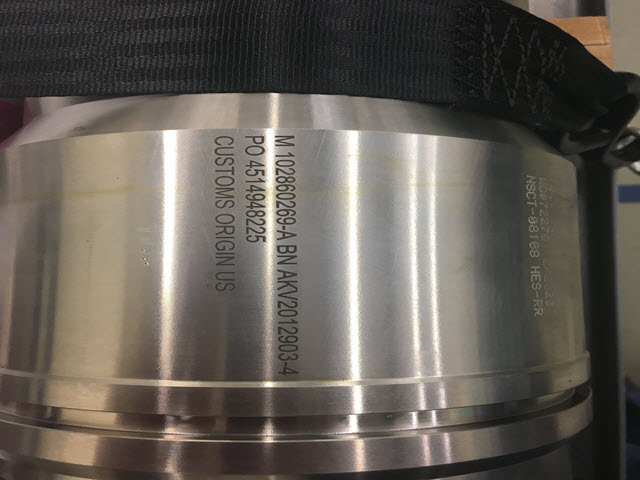character: (273, 268, 300, 283), (212, 279, 239, 294), (272, 133, 297, 149), (213, 211, 236, 227), (213, 185, 236, 201), (275, 288, 298, 303), (274, 279, 300, 292), (211, 255, 237, 268), (275, 332, 299, 346), (274, 228, 298, 242), (241, 181, 265, 195), (213, 164, 237, 178), (214, 144, 238, 158), (274, 316, 299, 329), (273, 254, 298, 267), (273, 243, 298, 256), (212, 134, 237, 147), (272, 190, 299, 202), (275, 298, 298, 312), (274, 148, 297, 162), (214, 154, 237, 168), (273, 351, 302, 362), (274, 342, 300, 354), (213, 269, 239, 281), (212, 223, 238, 235), (242, 232, 267, 244), (240, 133, 265, 145), (242, 145, 265, 158), (213, 175, 236, 188), (211, 248, 238, 259), (276, 366, 300, 378), (241, 168, 265, 180), (243, 190, 265, 203), (214, 240, 237, 252), (272, 174, 297, 185), (243, 208, 264, 221), (273, 359, 300, 369), (276, 325, 298, 337), (275, 307, 299, 318), (274, 166, 298, 177), (213, 197, 235, 209), (274, 183, 297, 194), (244, 224, 267, 235), (243, 200, 266, 211), (242, 158, 265, 169), (274, 207, 299, 217), (275, 215, 297, 225), (245, 217, 267, 227), (274, 200, 298, 209), (275, 223, 298, 232), (274, 159, 297, 168), (242, 175, 266, 183), (212, 233, 239, 240)
